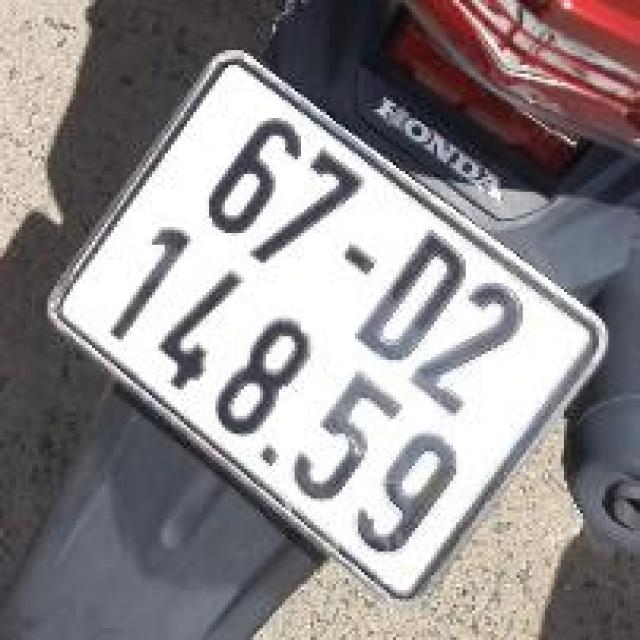1: (94, 212, 208, 359)
2: (394, 265, 547, 431)
4: (143, 258, 274, 404)
5: (276, 358, 416, 520)
6: (191, 103, 323, 249)
7: (236, 135, 379, 276)
8: (200, 297, 333, 455)
9: (335, 415, 481, 573)
D: (341, 219, 487, 376)
